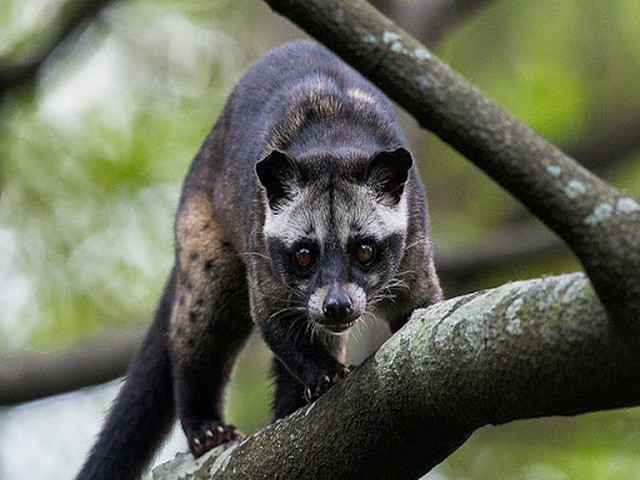civet: (73, 37, 441, 473)
